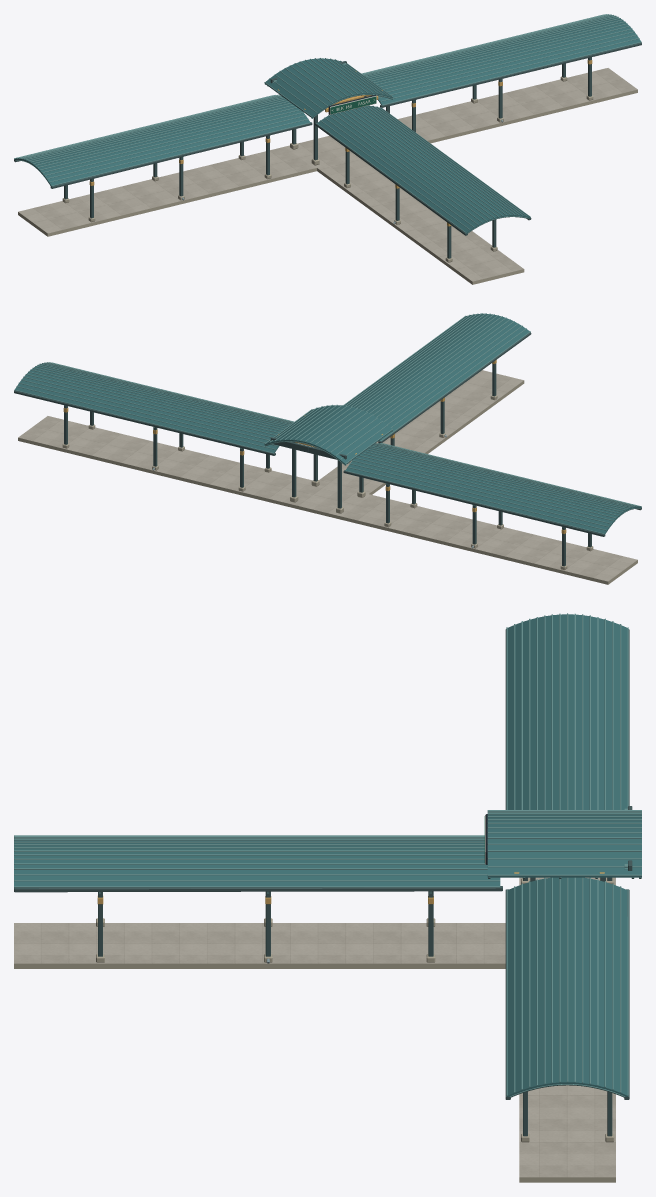
3 renders of one model, top to bottom at view 1: azimuth 30°, elevation 25°; view 2: azimuth 150°, elevation 25°; view 3: azimuth 270°, elevation 25°, orthographic. The views are drawn at different scales.
Parts seen in each view (by area): view 1: Sheltered Footpath, Covered Wing 1, Covered Wing 3, Covered Wing 2, Covered Wing 3 Seams, Covered Wing 2 Seams, Covered Wing 1 Seams, Raised Junction Canopy, Gutters, Linkway Columns, Raised Junction Canopy Seams, Estate Direction Board (+1 smaller); view 2: Sheltered Footpath, Covered Wing 3, Covered Wing 2, Covered Wing 1, Covered Wing 3 Seams, Covered Wing 2 Seams, Covered Wing 1 Seams, Raised Junction Canopy, Gutters, Linkway Columns, Raised Junction Canopy Seams, Junction Columns (+2 smaller); view 3: Sheltered Footpath, Covered Wing 2, Covered Wing 3, Covered Wing 1, Covered Wing 1 Seams, Raised Junction Canopy, Covered Wing 2 Seams, Covered Wing 3 Seams, Raised Junction Canopy Seams, Gutters, Linkway Columns.
Boxes of the visible parts, x1,y1,x2,y2 form: Sheltered Footpath: (18, 68, 637, 284); Covered Wing 1: (317, 105, 530, 233); Covered Wing 3: (14, 95, 309, 186); Covered Wing 2: (364, 15, 640, 104); Covered Wing 3 Seams: (14, 95, 310, 186); Covered Wing 2 Seams: (361, 14, 641, 105); Covered Wing 1 Seams: (316, 105, 530, 232); Raised Junction Canopy: (264, 58, 392, 118); Gutters: (14, 42, 641, 235); Linkway Columns: (64, 57, 591, 258); Raised Junction Canopy Seams: (264, 58, 393, 116); Estate Direction Board: (328, 94, 376, 114); Sheltered Footpath: (18, 370, 637, 584); Covered Wing 3: (345, 444, 641, 534); Covered Wing 2: (14, 363, 291, 452); Covered Wing 1: (344, 313, 529, 440); Covered Wing 3 Seams: (345, 443, 641, 534); Covered Wing 2 Seams: (14, 362, 293, 453); Covered Wing 1 Seams: (343, 313, 530, 441); Raised Junction Canopy: (264, 405, 392, 464); Gutters: (14, 332, 641, 536); Linkway Columns: (64, 363, 591, 566); Raised Junction Canopy Seams: (264, 404, 392, 463); Junction Columns: (292, 442, 363, 508); Sheltered Footpath: (14, 877, 615, 1182); Covered Wing 2: (507, 877, 627, 1096); Covered Wing 3: (507, 614, 627, 809); Covered Wing 1: (14, 839, 500, 888); Covered Wing 1 Seams: (14, 835, 500, 887); Raised Junction Canopy: (487, 813, 641, 877); Covered Wing 2 Seams: (506, 877, 628, 1095); Covered Wing 3 Seams: (506, 613, 628, 809); Raised Junction Canopy Seams: (487, 810, 641, 875); Gutters: (14, 629, 629, 1099); Linkway Columns: (98, 877, 612, 1136).
Bounding box in the file's own units: 32 × 4.01 × 18.15.
Materials: 11 (1 with a texture image).
